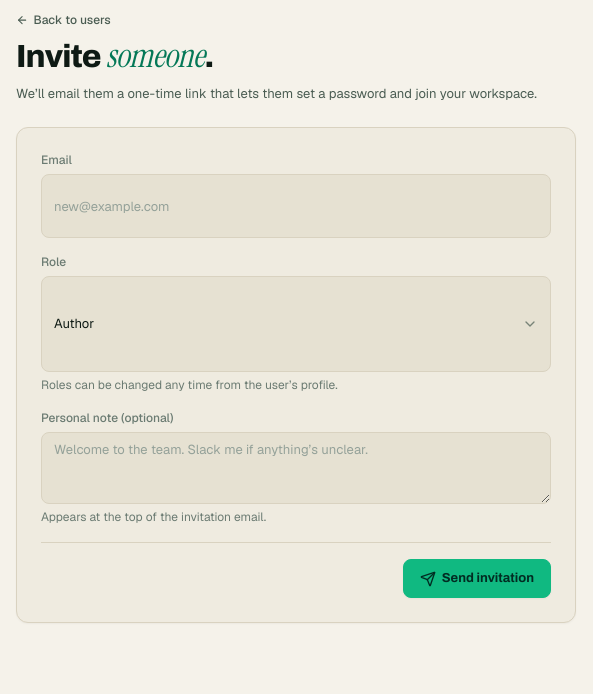
Test: <InviteForm> › rejects a malformed email
The image size is (593, 694).
Type "nope" into the field with test id "invite-email".
click(296, 206); type("nope")  # box x1=41 y1=174 x2=551 y2=238
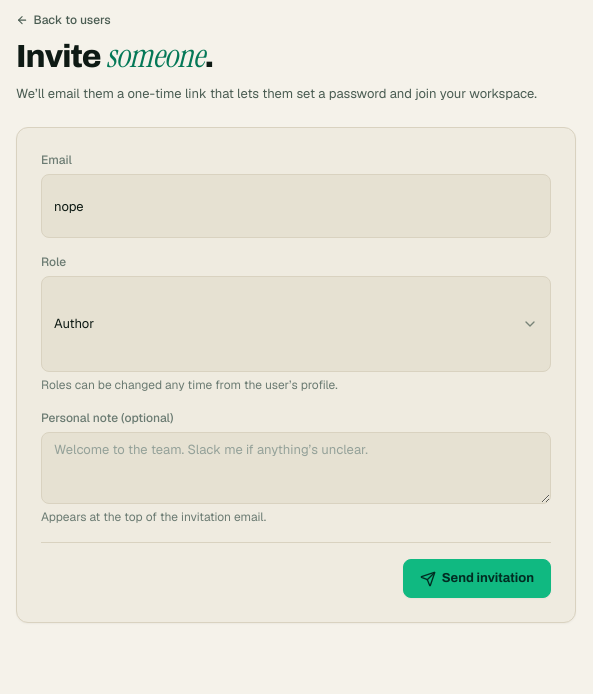
Submit the form with test id "invite-form", box x1=41 y1=152 x2=551 y2=598
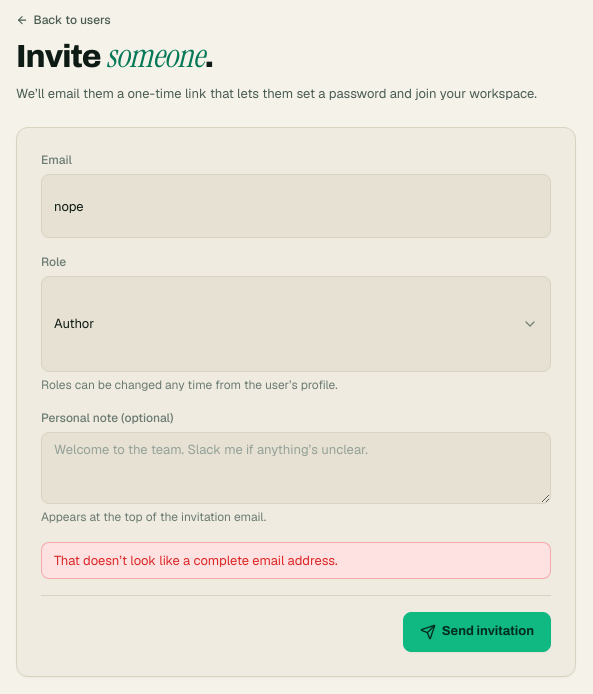
Now the message with test id "invite-error" shows "complete email", box x1=54 y1=552 x2=338 y2=569
